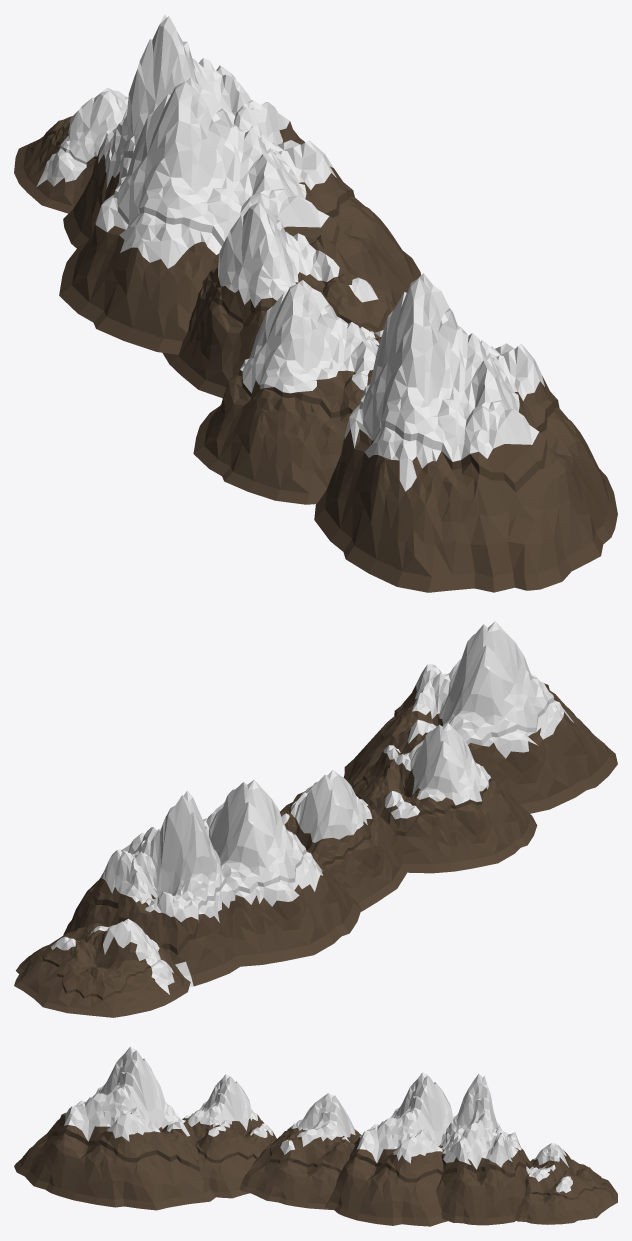
The model's file is mountain long with snow.fbx.
3 views of the same model, one above another, from view 1: azimuth 30°, elevation 25°; view 2: azimuth 150°, elevation 25°; view 3: azimuth 270°, elevation 25° (orthographic). The views are drawn at different scales.
Visible parts, largest first — view 1: pasted__PP_Forest_Mountain_Moss_01_90; view 2: pasted__PP_Forest_Mountain_Moss_01_90; view 3: pasted__PP_Forest_Mountain_Moss_01_90.
Part boxes in pixels (x1,y1,x2,y2): pasted__PP_Forest_Mountain_Moss_01_90: [14, 14, 617, 592]; pasted__PP_Forest_Mountain_Moss_01_90: [14, 621, 617, 1017]; pasted__PP_Forest_Mountain_Moss_01_90: [14, 1046, 617, 1226].
Bounding box in the file's own units: 26.3 × 16.59 × 72.21.
